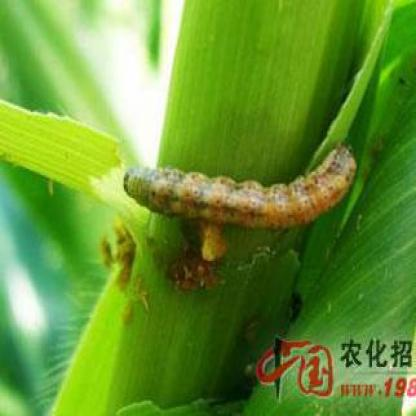armyworm: (118, 146, 362, 238)
